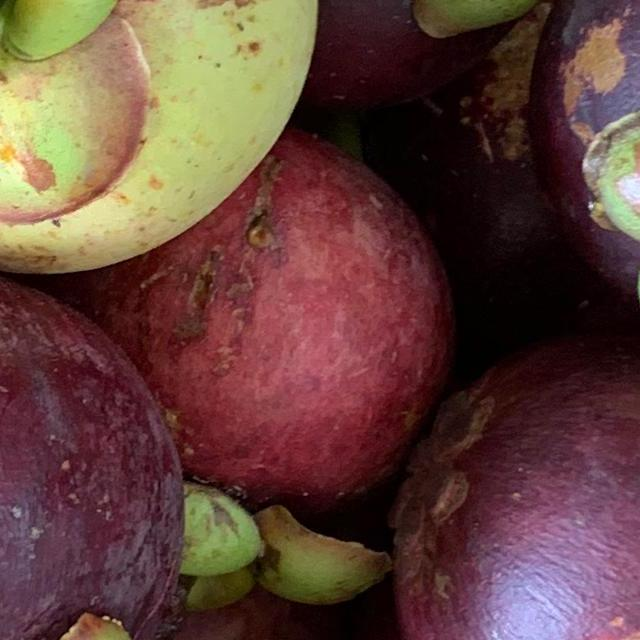mangosteen: (0, 0, 338, 290)
